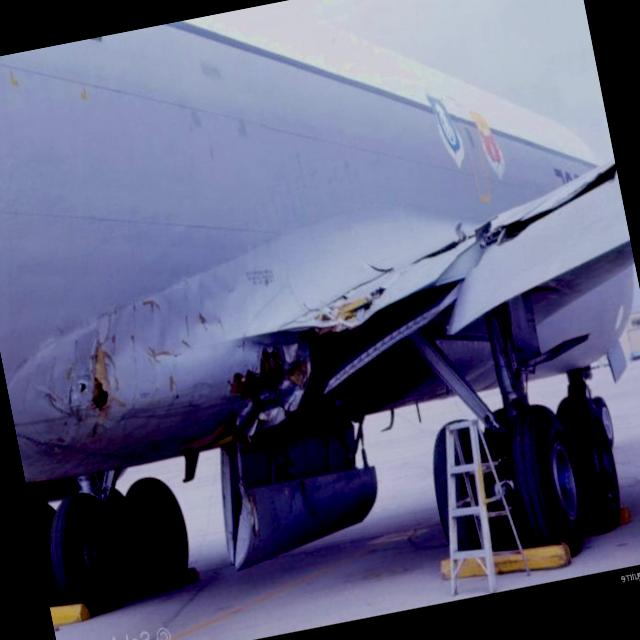dent: (140, 266, 248, 360)
